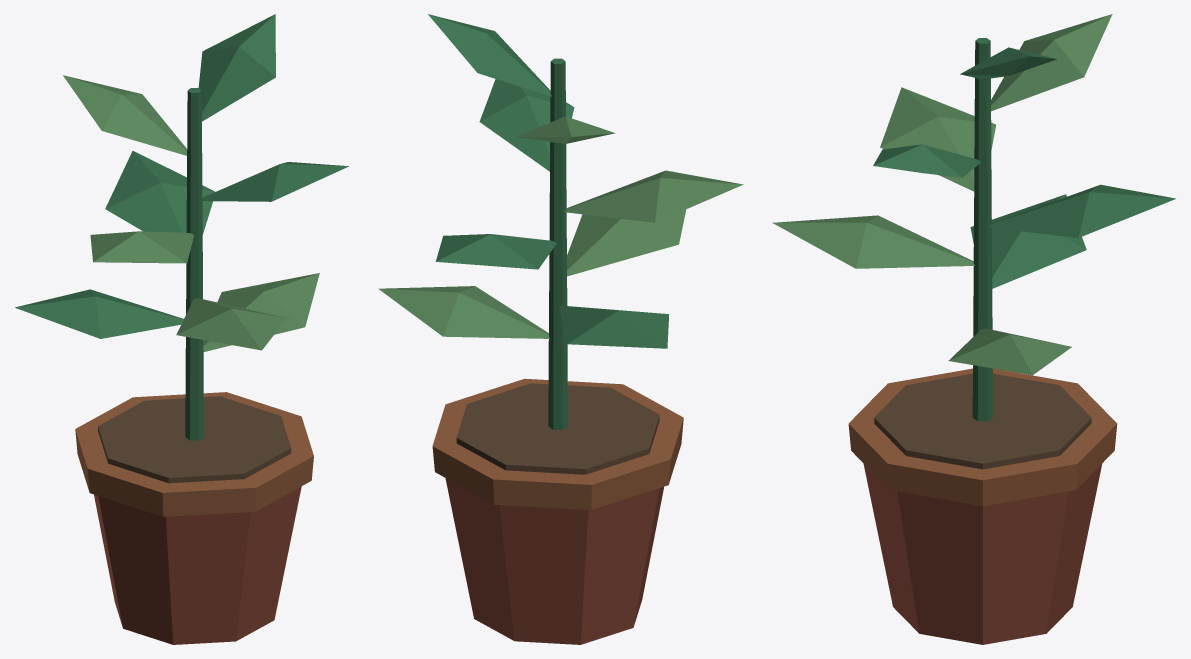
File: prop-planter.glb
3 views of the same model, side by side, from view 1: azimuth 30°, elevation 25°; view 2: azimuth 150°, elevation 25°; view 3: azimuth 270°, elevation 25° (orthographic). The views are drawn at different scales.
Visible parts, largest first — view 1: terracotta_pot, dark_potting_soil, thick_pot_lip, main_stem, leaf_7, leaf_3, leaf_1, leaf_6, leaf_2, leaf_0, leaf_4, leaf_5; view 2: terracotta_pot, dark_potting_soil, thick_pot_lip, main_stem, leaf_0, leaf_4, leaf_2, leaf_1, leaf_5, leaf_7, leaf_3, leaf_6; view 3: terracotta_pot, dark_potting_soil, thick_pot_lip, leaf_2, main_stem, leaf_3, leaf_6, leaf_4, leaf_1, leaf_0, leaf_5, leaf_7.
Boxes of the visible parts, x1,y1,x2,y2 form: terracotta_pot: [94, 486, 301, 644]; dark_potting_soil: [98, 396, 291, 483]; thick_pot_lip: [75, 392, 313, 516]; main_stem: [185, 88, 203, 440]; leaf_7: [198, 14, 275, 121]; leaf_3: [105, 151, 215, 234]; leaf_1: [15, 289, 183, 338]; leaf_6: [63, 75, 187, 155]; leaf_2: [176, 298, 286, 350]; leaf_0: [203, 273, 319, 351]; leaf_4: [90, 231, 193, 263]; leaf_5: [200, 162, 348, 201]; terracotta_pot: [445, 478, 663, 644]; dark_potting_soil: [456, 383, 659, 474]; thick_pot_lip: [432, 378, 683, 510]; main_stem: [548, 58, 567, 429]; leaf_0: [378, 286, 549, 338]; leaf_4: [564, 170, 743, 222]; leaf_2: [567, 209, 686, 276]; leaf_1: [559, 305, 669, 348]; leaf_5: [479, 79, 574, 171]; leaf_7: [428, 14, 551, 96]; leaf_3: [435, 234, 556, 269]; leaf_6: [515, 116, 615, 143]; terracotta_pot: [863, 463, 1101, 644]; dark_potting_soil: [874, 373, 1091, 469]; thick_pot_lip: [848, 368, 1117, 506]; leaf_2: [772, 215, 974, 268]; main_stem: [972, 38, 993, 421]; leaf_3: [989, 184, 1175, 237]; leaf_6: [991, 14, 1112, 111]; leaf_4: [880, 87, 996, 191]; leaf_1: [970, 194, 1086, 288]; leaf_0: [948, 328, 1071, 375]; leaf_5: [873, 144, 980, 177]; leaf_7: [960, 47, 1056, 79].
Size of the model in its own units: 0.4258 by 0.78 by 0.4727.
